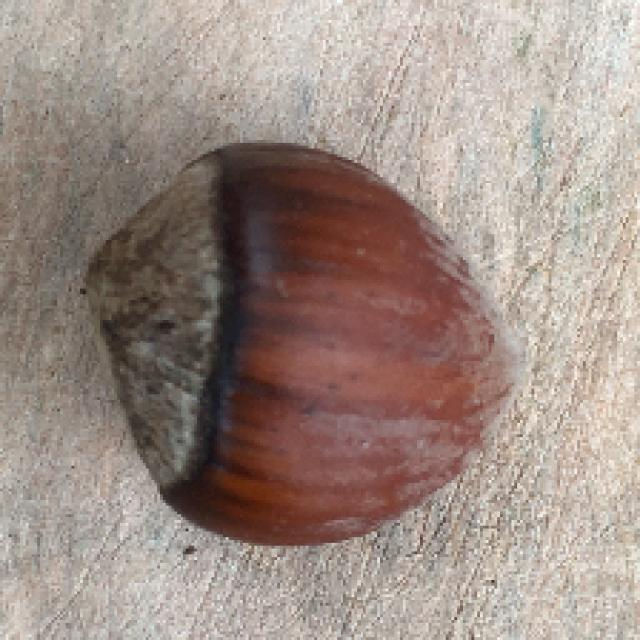qualityHazelnut: (80, 133, 528, 554)
